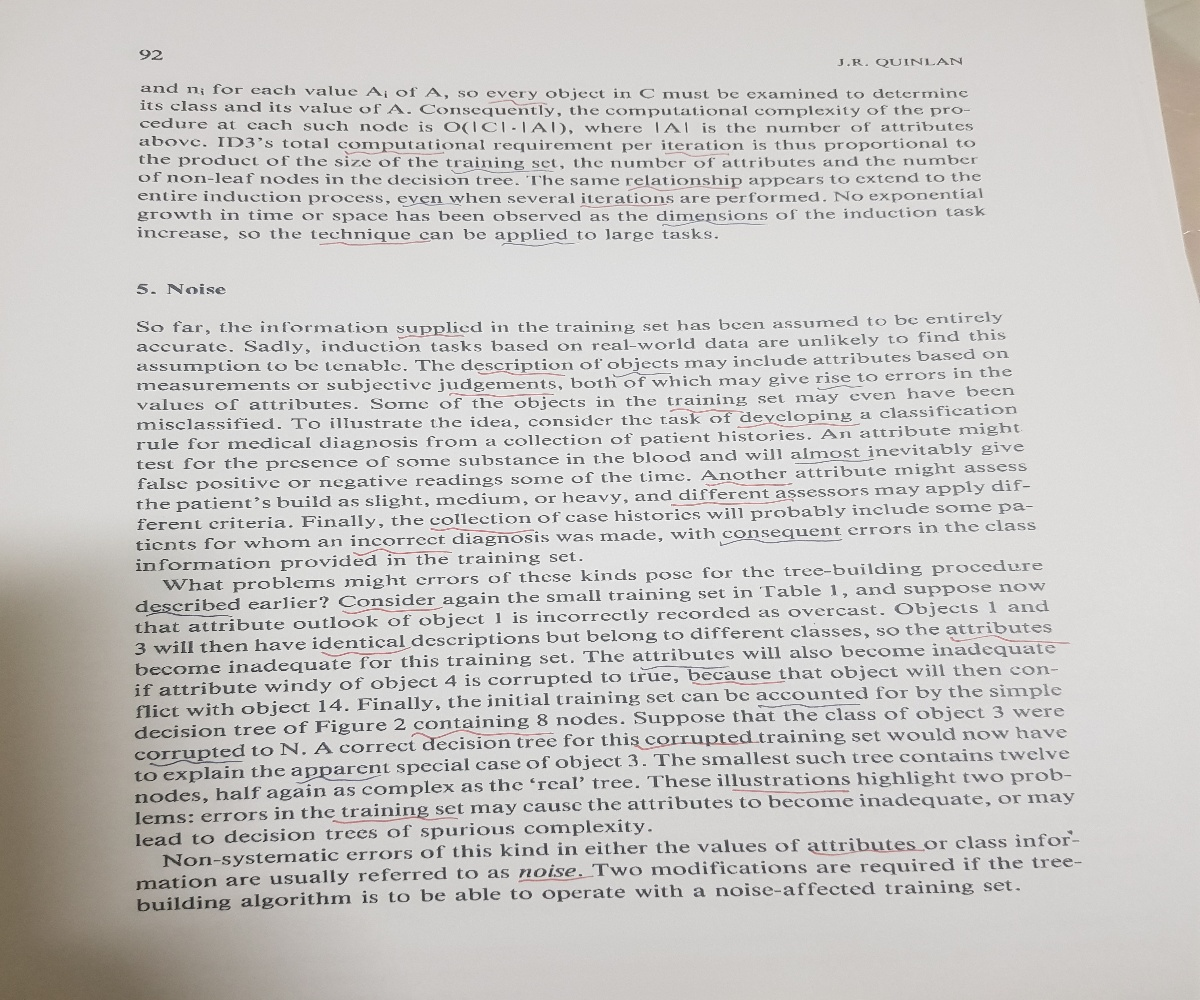underline: (950, 633, 1068, 646), (630, 740, 764, 749), (317, 238, 436, 248), (341, 605, 443, 616), (428, 524, 536, 534), (293, 773, 388, 784), (409, 730, 558, 737), (318, 645, 411, 656), (807, 849, 933, 857), (691, 679, 790, 689), (731, 786, 850, 794), (717, 539, 845, 546), (331, 815, 459, 822), (340, 149, 451, 157), (475, 367, 568, 376), (142, 609, 235, 618), (704, 478, 793, 487), (500, 238, 578, 248), (670, 500, 795, 506), (450, 167, 556, 174), (447, 390, 551, 397), (636, 663, 732, 670), (627, 185, 738, 191), (149, 758, 244, 765), (794, 456, 875, 464), (352, 549, 452, 555), (576, 201, 673, 207), (516, 874, 597, 881), (487, 97, 549, 106), (667, 405, 746, 412), (399, 331, 468, 339), (756, 702, 865, 707), (662, 220, 765, 225), (735, 422, 859, 426), (400, 202, 463, 209), (663, 150, 730, 156), (818, 383, 864, 391), (609, 371, 670, 376)
